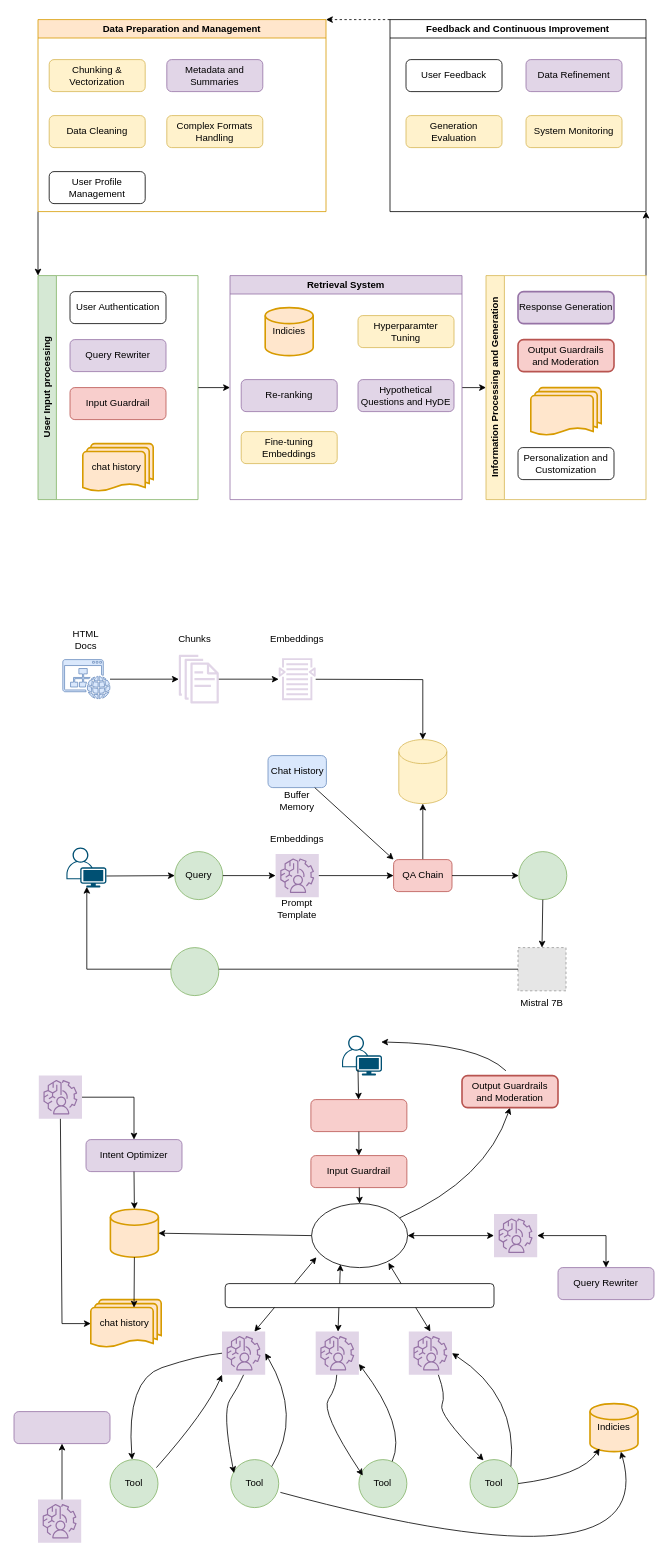
This 668x1557 diagram has some shape labels left out. Grey dashed boxes stand in for pictures. Here are the shapes that lost their labels. From the top down, the centre of each, then its label:
the point at 566,411: Caching
the point at 422,771: Vector-store
the point at 542,875: Query + Context
the point at 194,971: Response
the point at 358,1115: PII Filter
the point at 134,1233: User Profiles
the point at 359,1235: coordinator
the point at 359,1295: Agents handling middle Layer
the point at 61,1427: Tool prompt Optimizer
